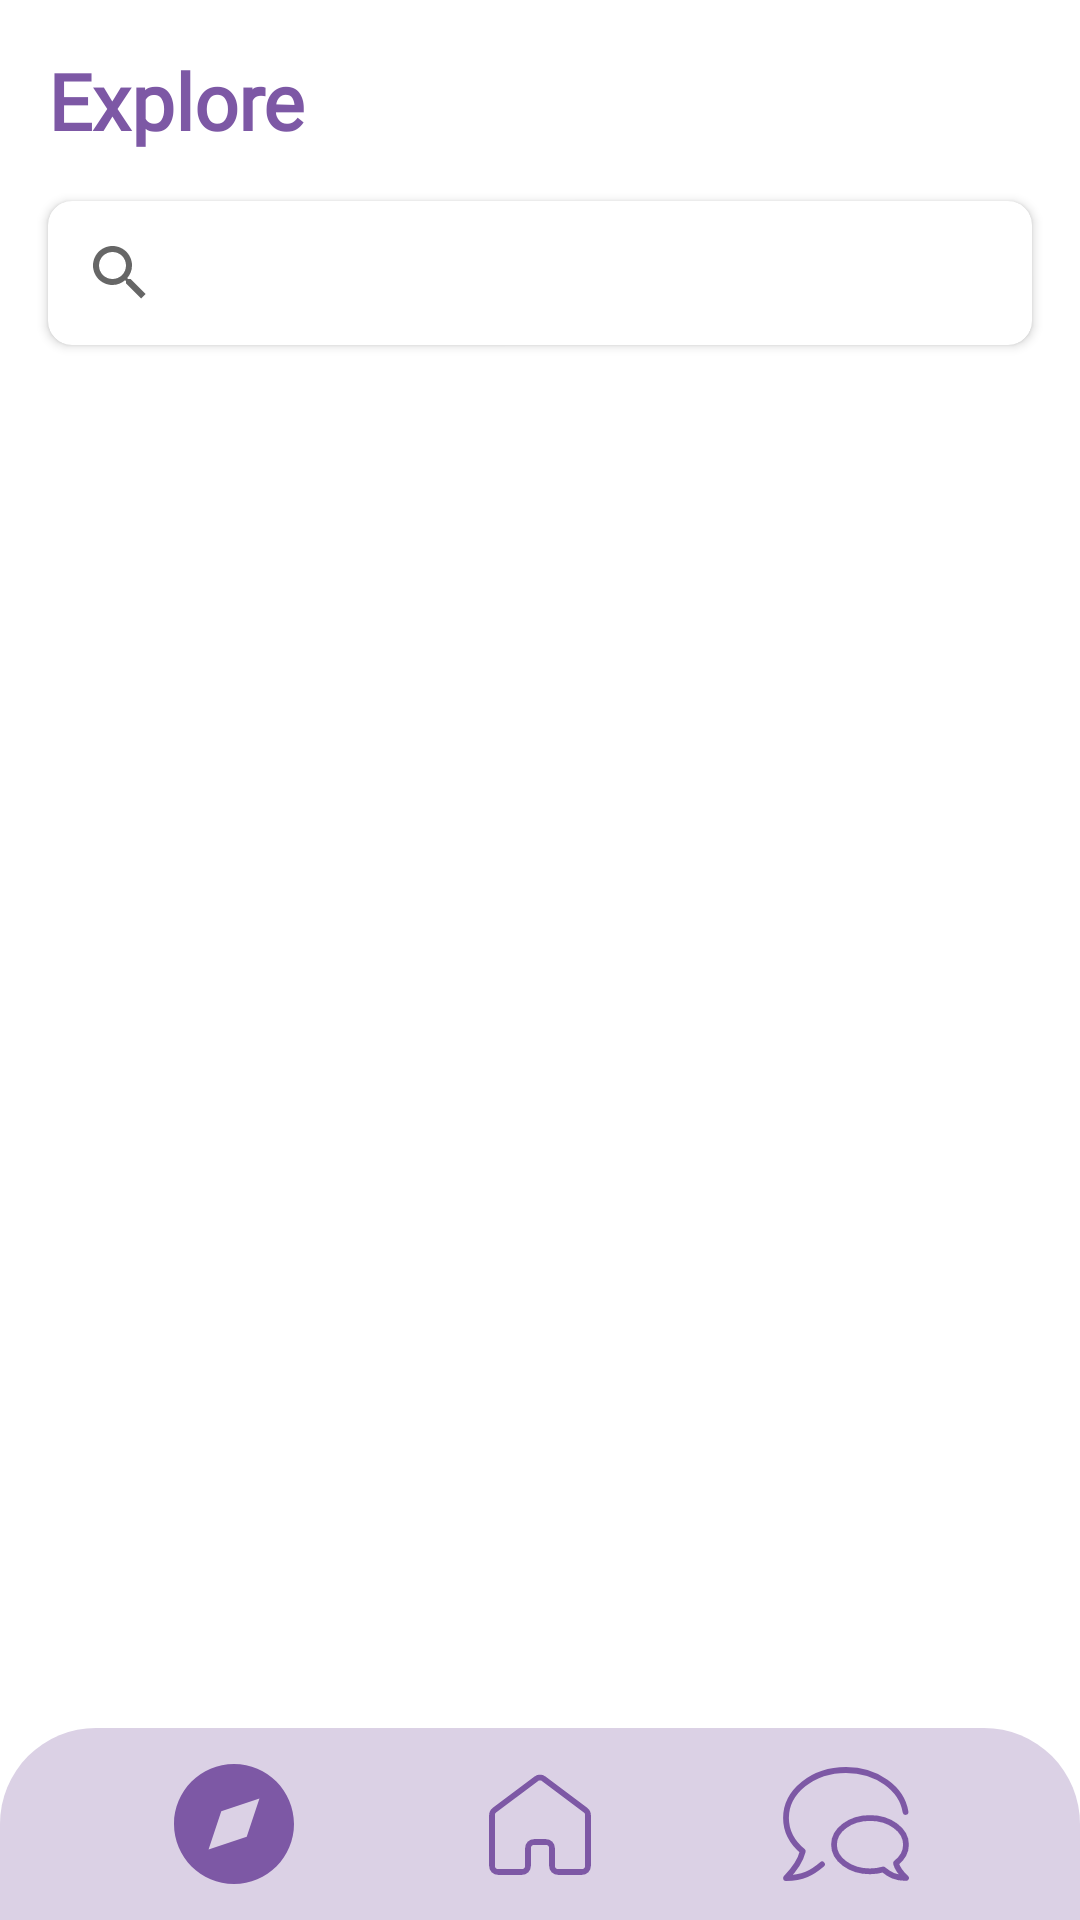

Screen size 1080×1920. Icon name, then its box in pixels as box=[x1, y1, x2, y2]:
chats: box=[783, 1767, 909, 1881]
compass: box=[174, 1764, 294, 1884]
home: box=[489, 1774, 591, 1875]
